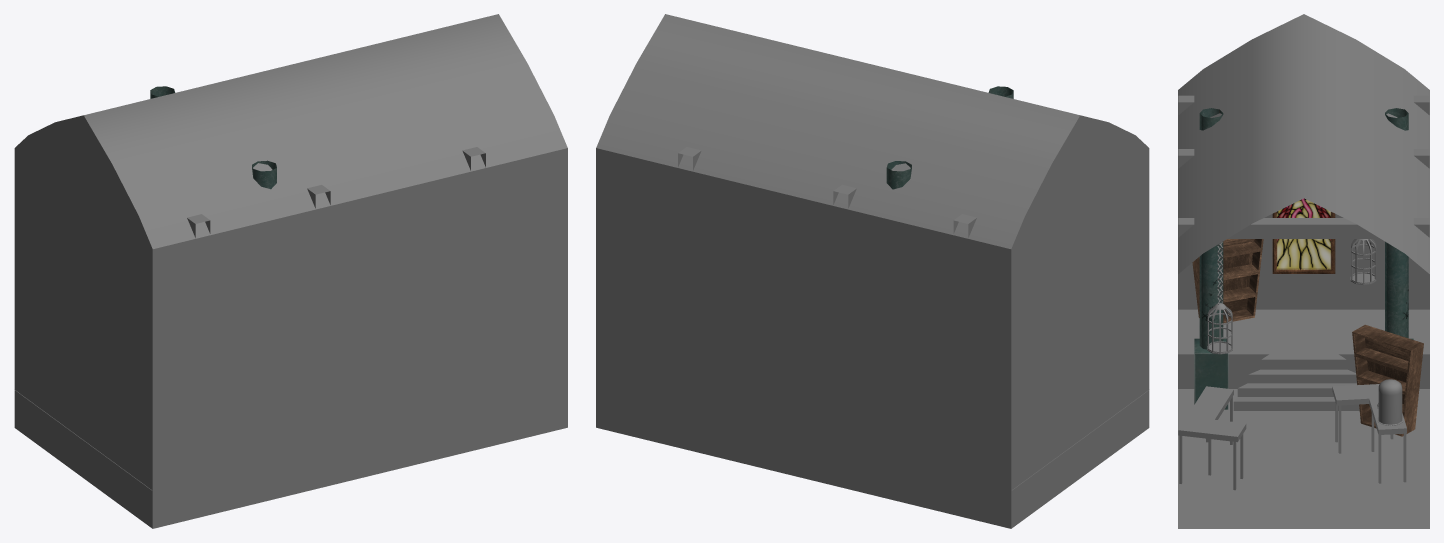
Rendered from blockout.obj.
3 renders of one model, left to right at view 1: azimuth 30°, elevation 25°; view 2: azimuth 150°, elevation 25°; view 3: azimuth 270°, elevation 25°, orthographic. The views are drawn at different scales.
Visible parts, largest first — view 1: SongBG Walls, SongBG Ceiling; view 2: SongBG Walls, SongBG Ceiling; view 3: SongBG Ceiling, Floor SongBG, SongBG Stairs, SongBG Walls, SongBG Bookshelf1, SongBG Pillar1, SongBG Bookshelf, SongBG StainedGlass, SongBG pCube12, SongBG Pillar2, SongBG pCube4 Table1, SongBG Top Table2 (+5 smaller).
Part boxes in pixels (x1=…): SongBG Walls: x1=14, y1=115, x2=567, y2=528; SongBG Ceiling: x1=84, y1=14, x2=567, y2=248; SongBG Walls: x1=596, y1=115, x2=1149, y2=528; SongBG Ceiling: x1=596, y1=14, x2=1079, y2=248; SongBG Ceiling: x1=1178, y1=14, x2=1429, y2=273; Floor SongBG: x1=1178, y1=389, x2=1429, y2=528; SongBG Stairs: x1=1178, y1=309, x2=1429, y2=410; SongBG Walls: x1=1178, y1=214, x2=1429, y2=309; SongBG Bookshelf1: x1=1352, y1=324, x2=1423, y2=436; SongBG Pillar1: x1=1194, y1=108, x2=1228, y2=409; SongBG Bookshelf: x1=1192, y1=239, x2=1263, y2=323; SongBG StainedGlass: x1=1272, y1=198, x2=1335, y2=273; SongBG pCube12: x1=1178, y1=218, x2=1429, y2=238; SongBG Pillar2: x1=1385, y1=108, x2=1413, y2=339; SongBG pCube4 Table1: x1=1178, y1=386, x2=1246, y2=442; SongBG Top Table2: x1=1332, y1=384, x2=1406, y2=434.
Bounding box in the file's own units: 6.97 × 5.82 × 4.02.
4 materials, 1 textured.
